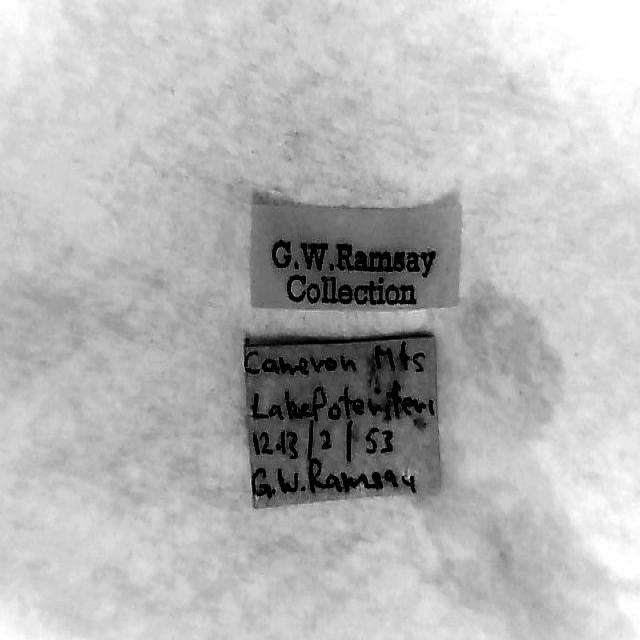hand_label: (244, 335, 440, 508)
typed_label: (251, 198, 461, 309)
